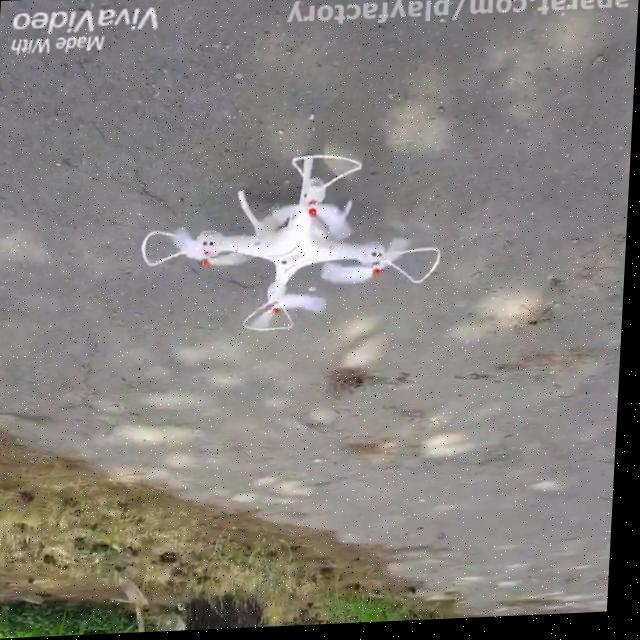drone: (137, 150, 450, 339)
